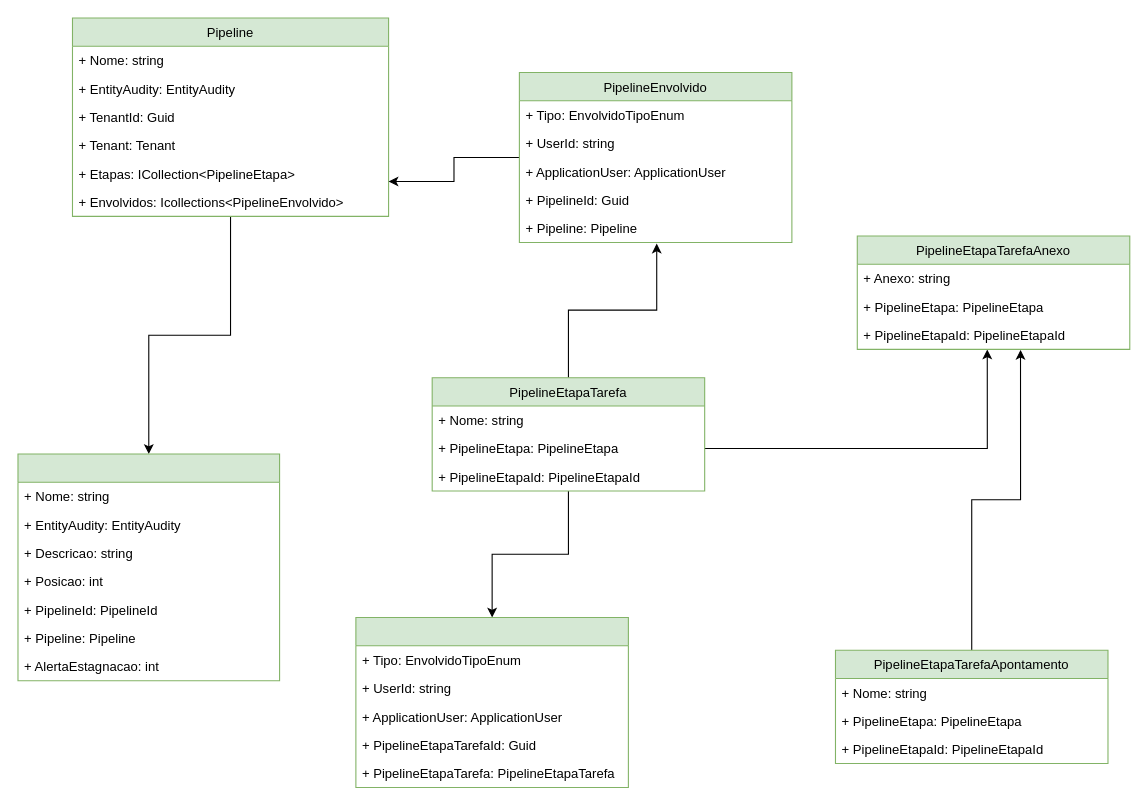
Image size: 1148x806. Some labels were removed from this diagram. Each missing label, with the box of its shape:
PipelineEtapa: (17, 453, 280, 681)
PipelineEtapaTarefaEnvolvido: (355, 616, 628, 788)
